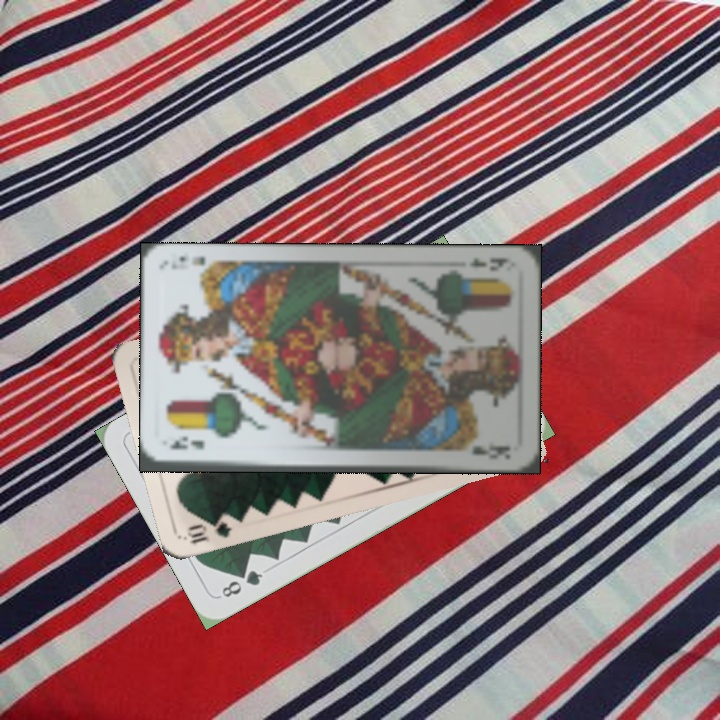EK: (464, 254, 515, 274), (166, 436, 207, 452)
G10: (183, 514, 235, 547)
G8: (217, 566, 266, 601)
